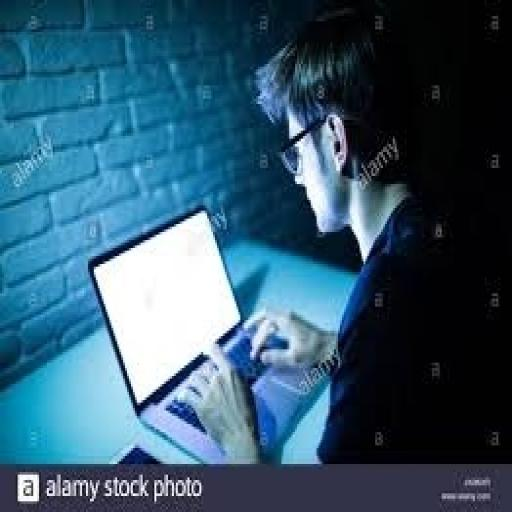using_laptop: (86, 203, 332, 464)
